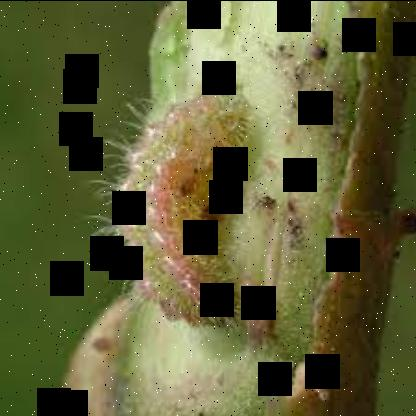oruga: (106, 67, 256, 349)
